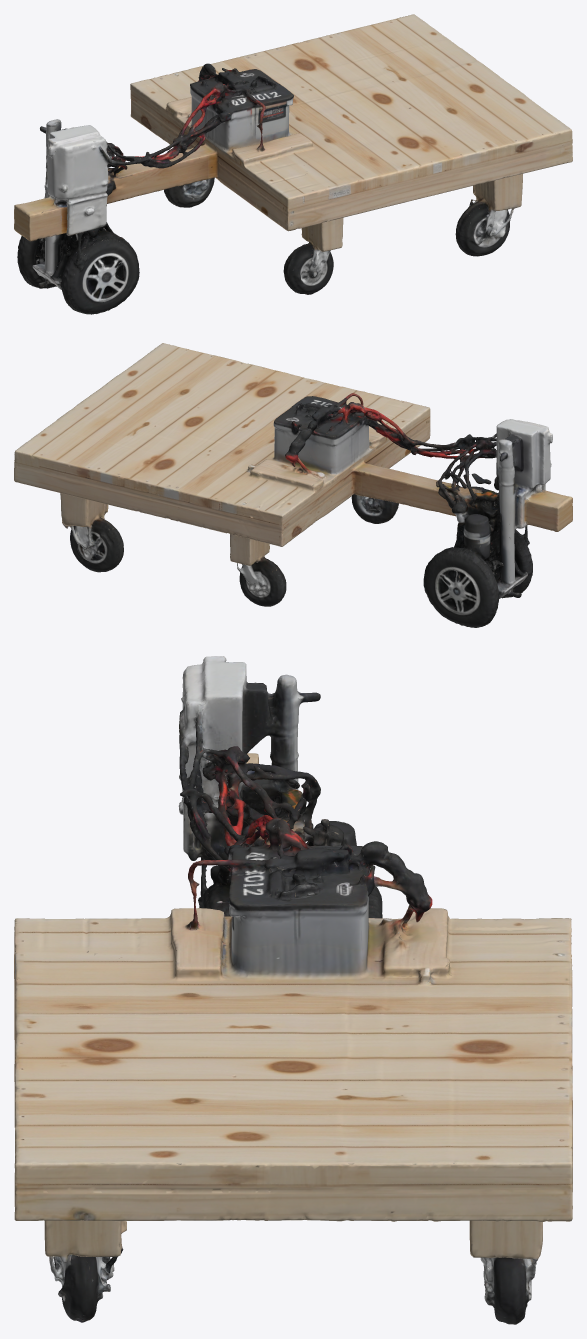
3 renders of one model, top to bottom at view 1: azimuth 30°, elevation 25°; view 2: azimuth 150°, elevation 25°; view 3: azimuth 270°, elevation 25°, orthographic. The views are drawn at different scales.
Bounding box in the file's own units: 2 × 0.73 × 1.12.
1 material, 1 textured.
